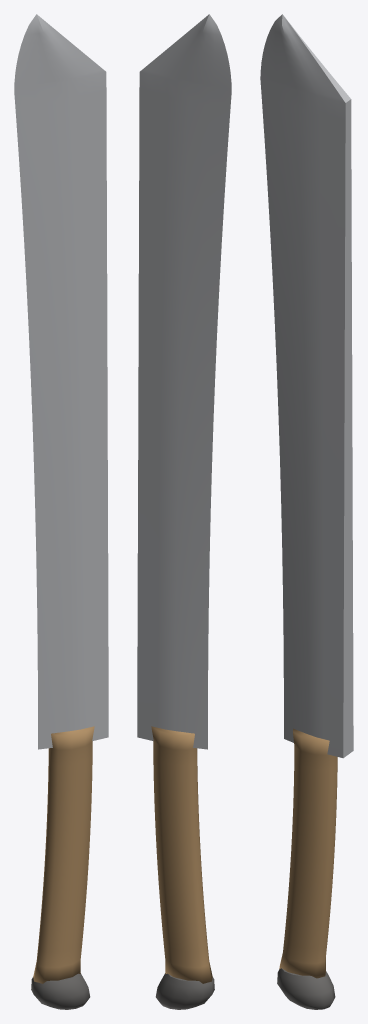
The model's file is machete.glb.
The picture shows the model from 3 angles, left to right: view 1: azimuth 30°, elevation 25°; view 2: azimuth 150°, elevation 25°; view 3: azimuth 330°, elevation 25°; orthographic projection.
Parts seen in each view (by area): view 1: machete; view 2: machete; view 3: machete.
Boxes of the visible parts, box(x1,y1,x2,y2) form: machete: box(14, 14, 108, 1009); machete: box(137, 14, 231, 1009); machete: box(260, 14, 353, 1009).
Bounding box in the file's own units: 0.1296 × 1.39 × 0.0619.
